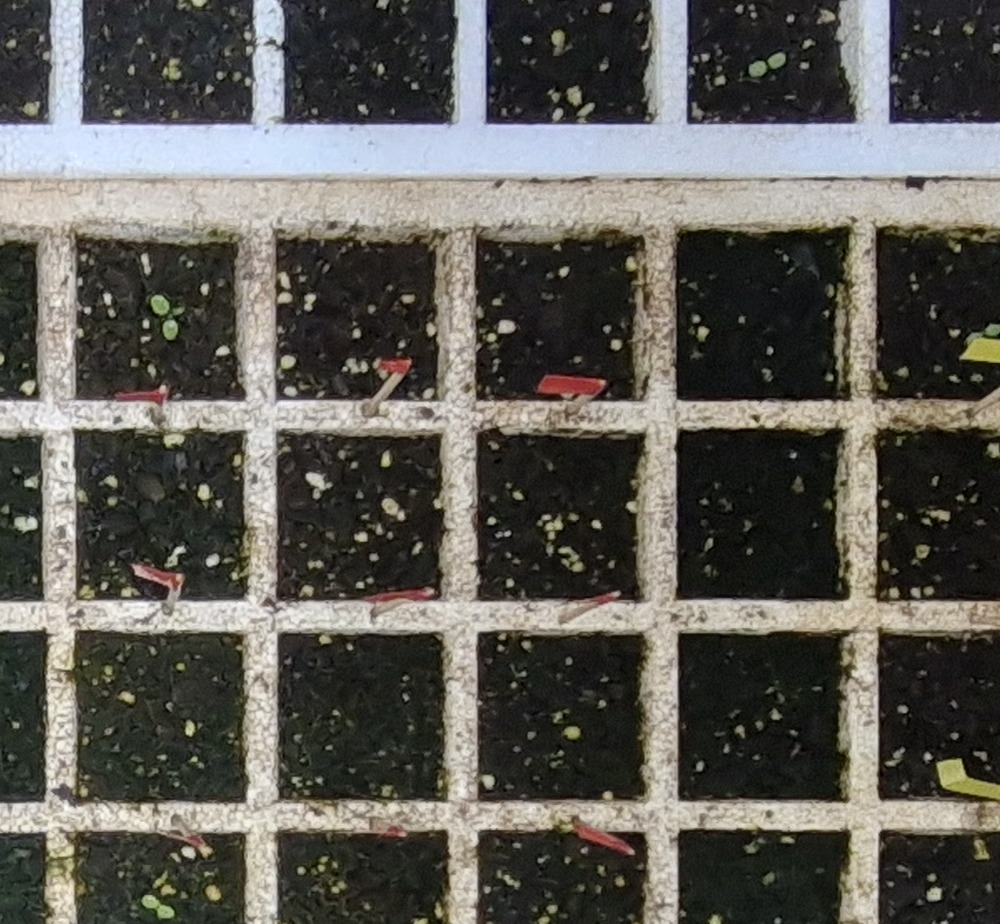Folha: (151, 295, 169, 315), (164, 320, 179, 340), (157, 904, 174, 919), (966, 332, 984, 346), (142, 896, 161, 908), (986, 325, 1000, 334)
Germinacao: (150, 295, 178, 338), (141, 894, 176, 919), (966, 324, 1000, 349)
